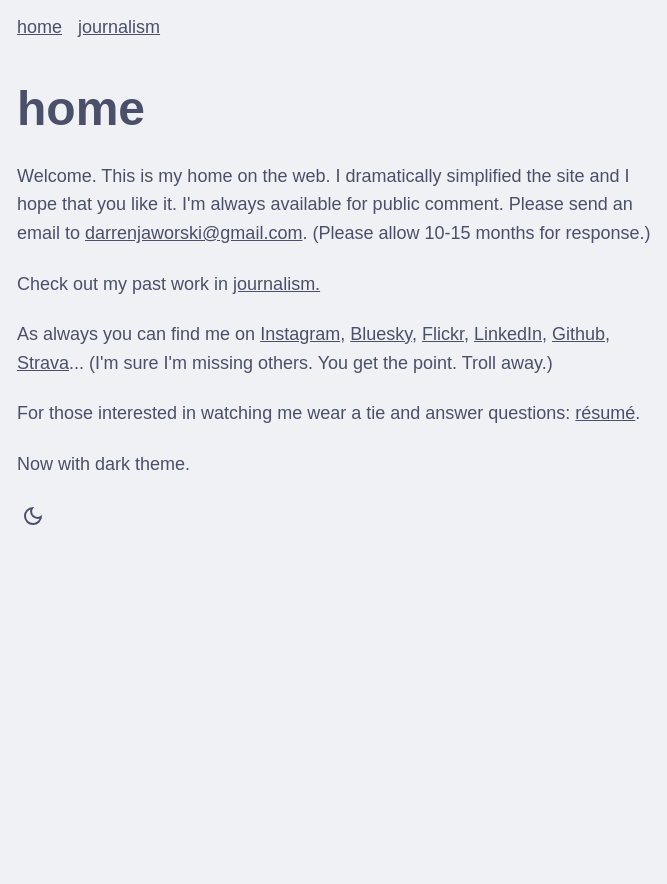
Test case: App › navigates back to home page when home link is clicked
Go to journalism page first
Click the link "journalism": (119, 27) [78,17,160,37]
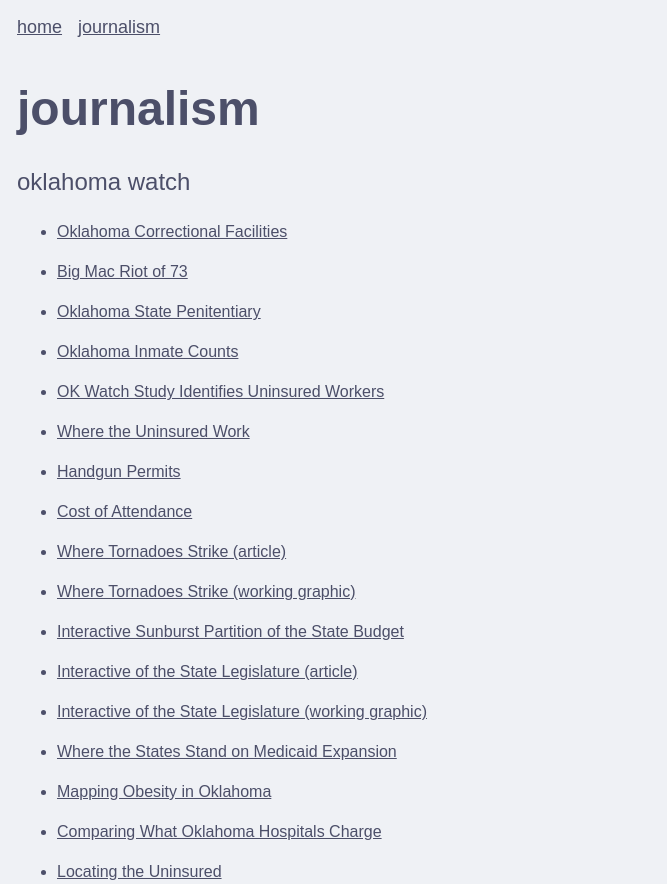
Then go back to home
Click the link "home": (40, 27) [17,17,62,37]
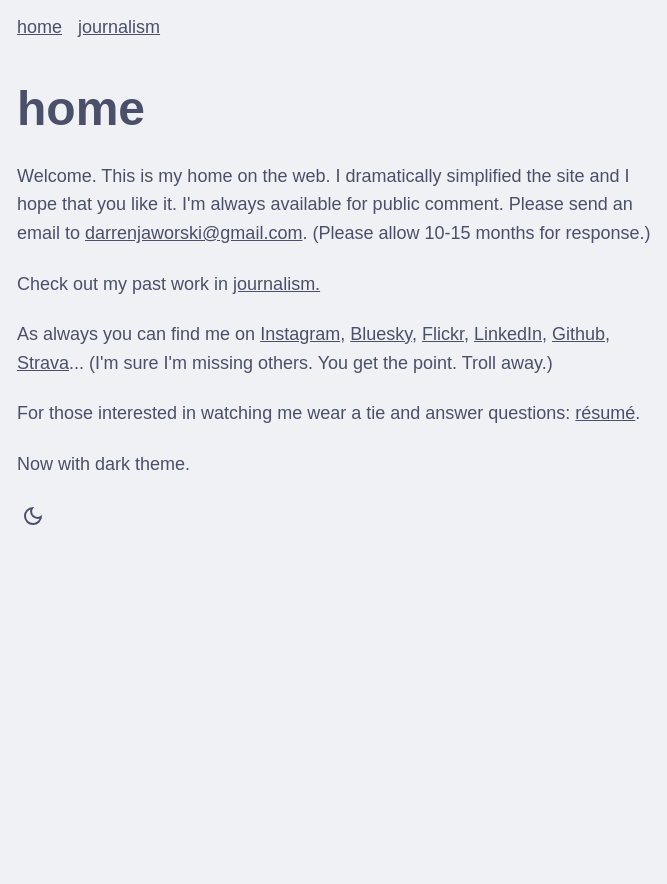
Check: the heading "home" is shown, box [17,82,145,135]
Check: the text "Welcome. This is my home on the web" is shown, box [17,166,633,243]
